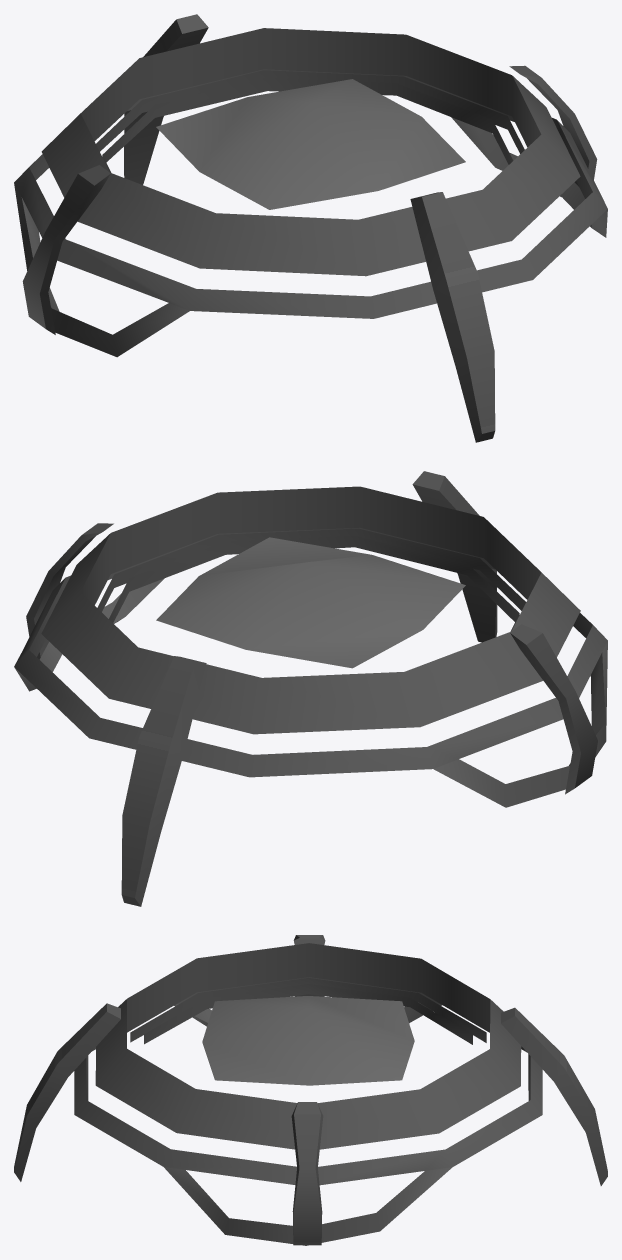
The model's file is jumpgate.glb.
3 views of the same model, one above another, from view 1: azimuth 30°, elevation 25°; view 2: azimuth 150°, elevation 25°; view 3: azimuth 270°, elevation 25° (orthographic). The views are drawn at different scales.
Visible parts, largest first — view 1: group_235, group_169, group_210; view 2: group_235, group_169, group_210; view 3: group_235, group_169, group_210.
Boxes of the visible parts, x1,y1,x2,y2 form: group_235: (41,14,580,442); group_169: (96,70,524,209); group_210: (14,65,607,357); group_235: (41,471,580,906); group_169: (97,528,526,668); group_210: (14,523,607,807); group_235: (14,943,607,1185); group_169: (130,978,486,1085); group_210: (74,935,542,1245).
Bounding box in the file's own units: 13166 × 4816 × 14773.
2 materials, 2 textured.
